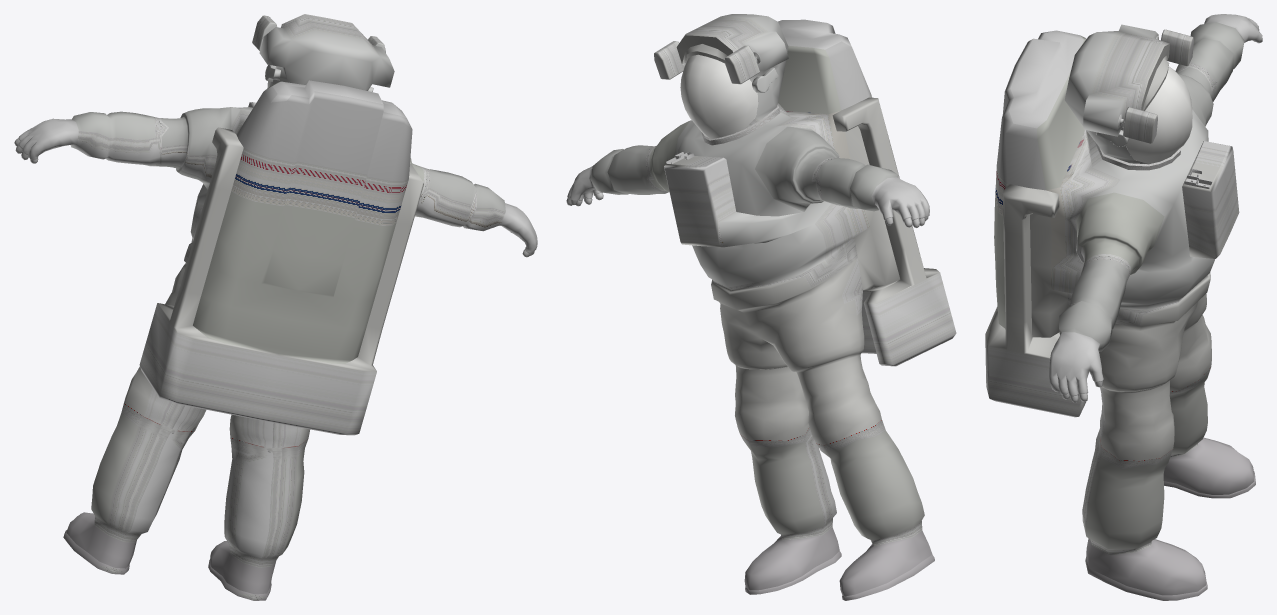
The model's file is astronauta.glb.
The picture shows the model from 3 angles, left to right: view 1: azimuth 30°, elevation 25°; view 2: azimuth 150°, elevation 25°; view 3: azimuth 270°, elevation 25°; orthographic projection. The views are drawn at different scales.
Parts seen in each view (by area): view 1: Astronauta_Malla; view 2: Astronauta_Malla; view 3: Astronauta_Malla.
Part boxes in pixels (left/top/right/bottom): Astronauta_Malla: left=14, top=14, right=537, bottom=600; Astronauta_Malla: left=566, top=14, right=956, bottom=600; Astronauta_Malla: left=985, top=14, right=1262, bottom=600.
Size of the model in its own units: 1.62 by 1.95 by 0.8434.
2 materials, 1 textured.
